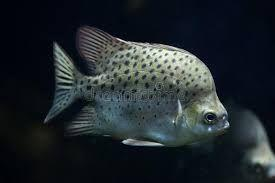Scat Fish: (43, 22, 231, 155)
